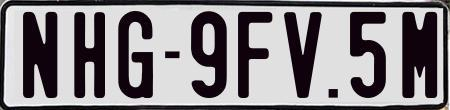5: (349, 11, 389, 100)
9: (189, 10, 231, 99)
F: (235, 12, 270, 104)
G: (116, 8, 153, 97)
H: (72, 12, 104, 104)
M: (401, 9, 434, 99)
N: (21, 12, 56, 98)
V: (282, 11, 322, 103)
